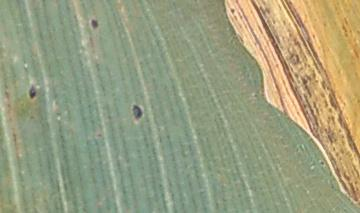tarspot: (131, 103, 142, 122), (27, 84, 38, 99), (89, 18, 99, 30), (228, 6, 236, 15), (318, 159, 325, 167)
